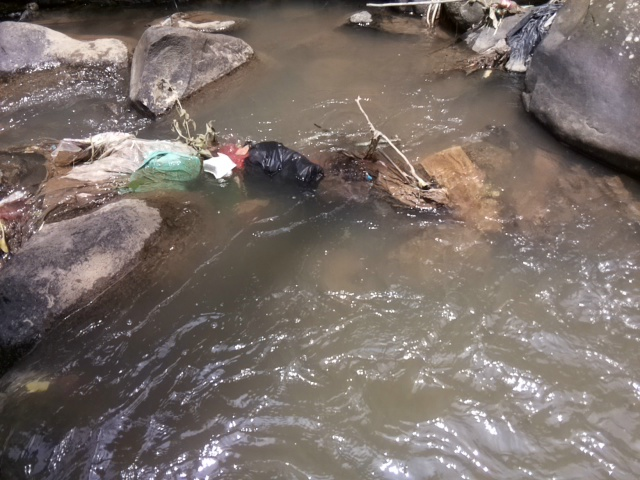Sampah_Plastik: (17, 133, 203, 207), (503, 1, 559, 75), (245, 140, 321, 193)
Sampah_Styrofoam: (204, 150, 236, 178)
